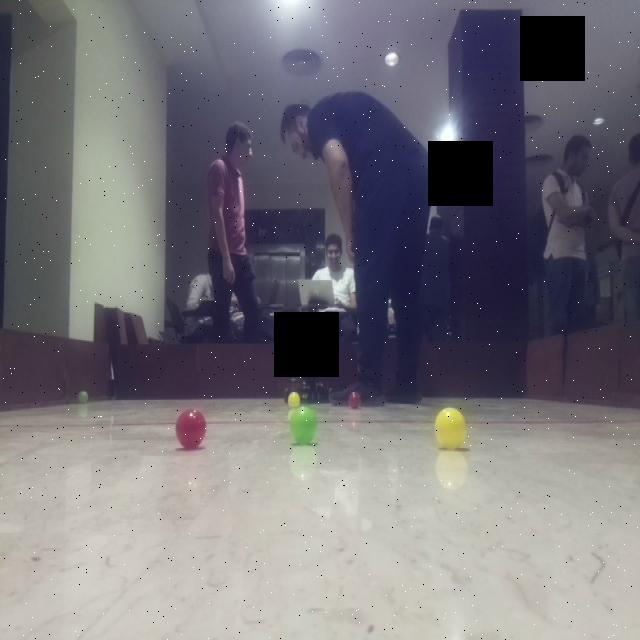ball: (76, 386, 94, 406)
